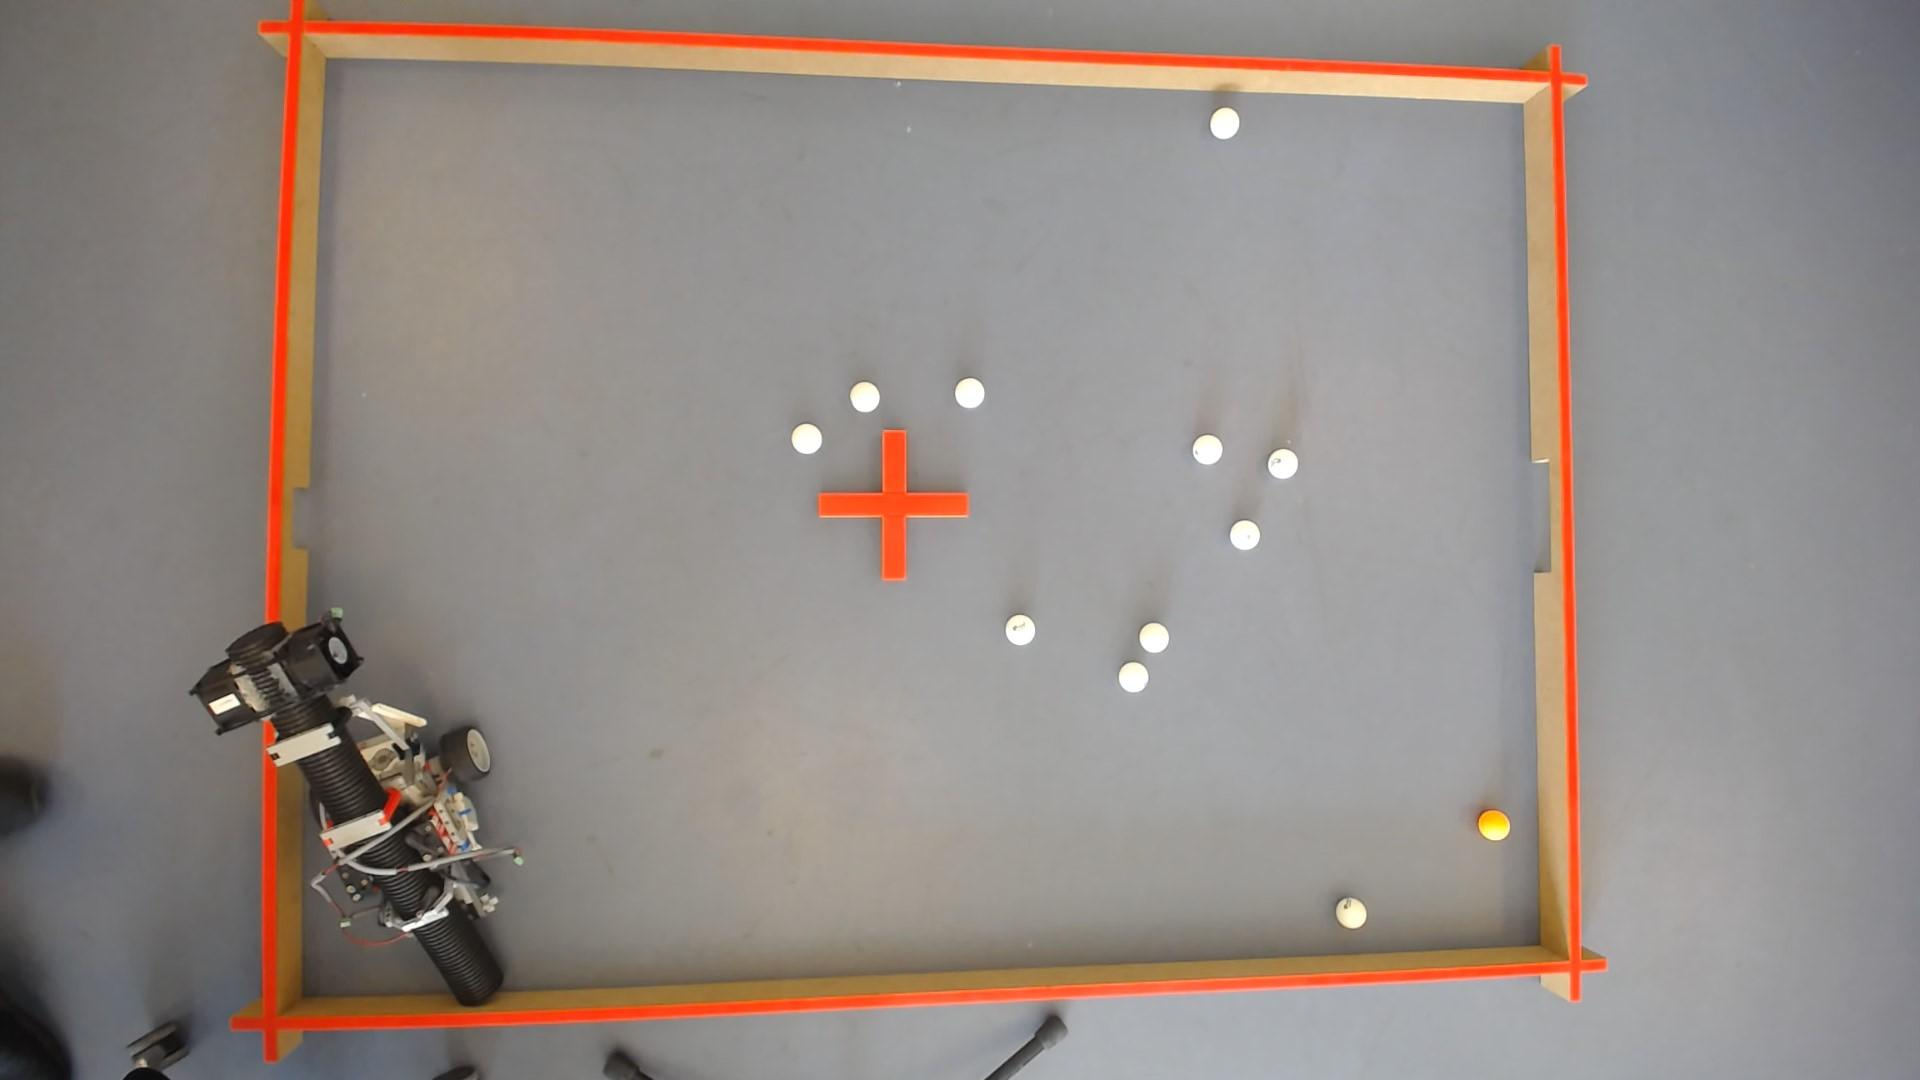orange: (1480, 810, 1513, 841)
robot: (193, 609, 514, 1007)
white: (791, 422, 823, 454), (1139, 621, 1171, 653), (1211, 104, 1241, 137), (1006, 615, 1036, 645), (1338, 898, 1369, 928), (1269, 447, 1300, 476), (851, 380, 880, 410), (1193, 434, 1224, 463), (1232, 520, 1262, 549), (1120, 662, 1149, 692), (956, 377, 985, 406)
